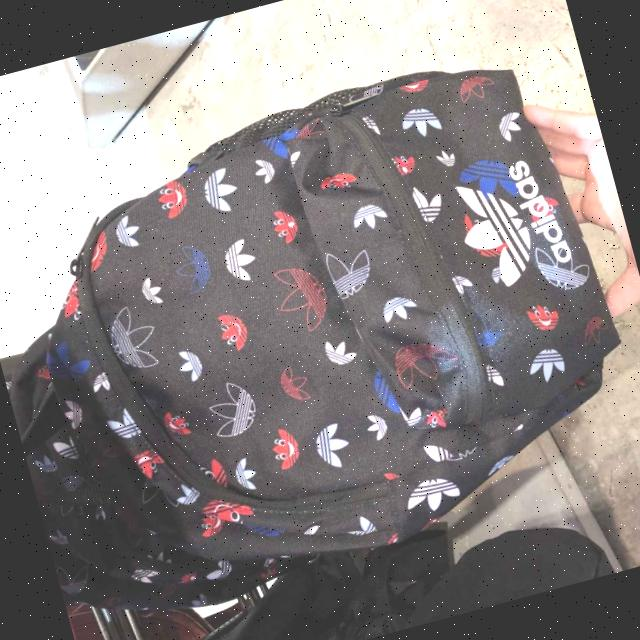Handbag: (0, 33, 640, 614)
